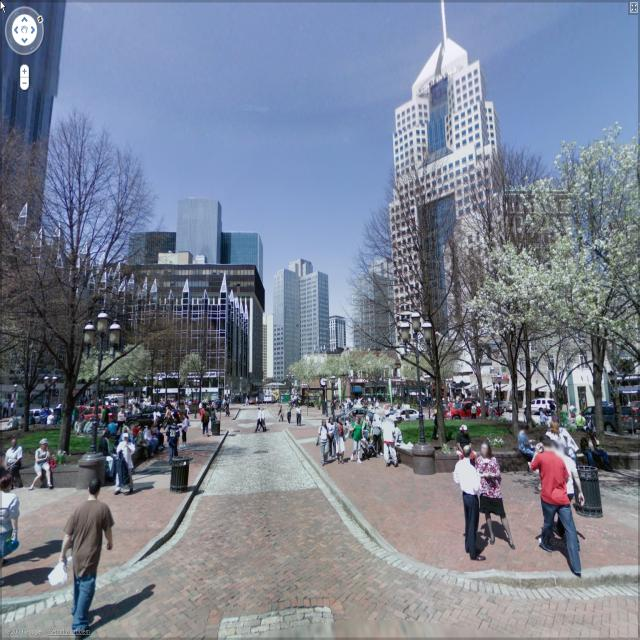b_1: (114, 225, 264, 270), (274, 260, 330, 366), (164, 197, 232, 273), (328, 314, 350, 359)
b_2: (394, 56, 508, 418), (1, 259, 234, 413), (488, 263, 632, 459), (3, 1, 72, 251), (497, 175, 583, 324), (341, 263, 397, 413)
